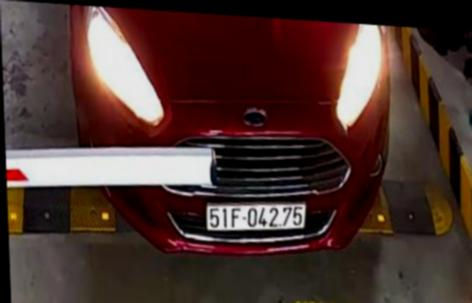License_Plate: (203, 195, 311, 238)
